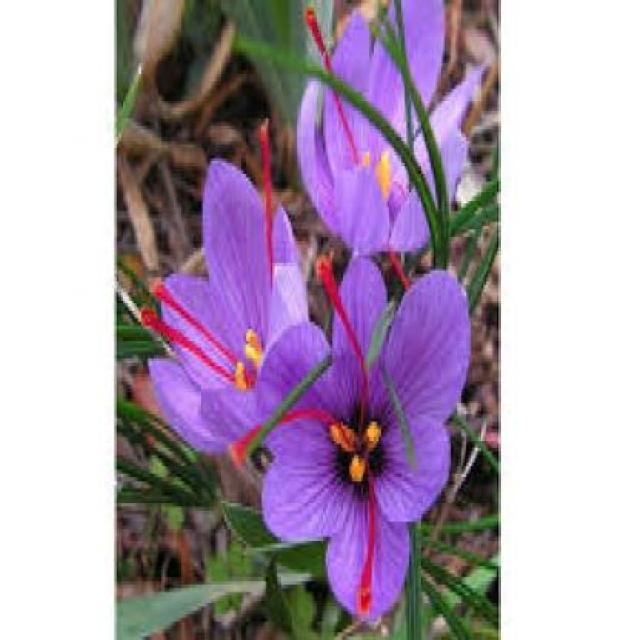Flower: (246, 255, 483, 612), (154, 142, 315, 462), (290, 0, 472, 258)
stigma: (312, 254, 371, 415), (299, 2, 361, 155), (148, 279, 238, 360), (225, 403, 338, 463), (241, 115, 279, 289), (139, 302, 228, 374), (351, 469, 381, 616)
